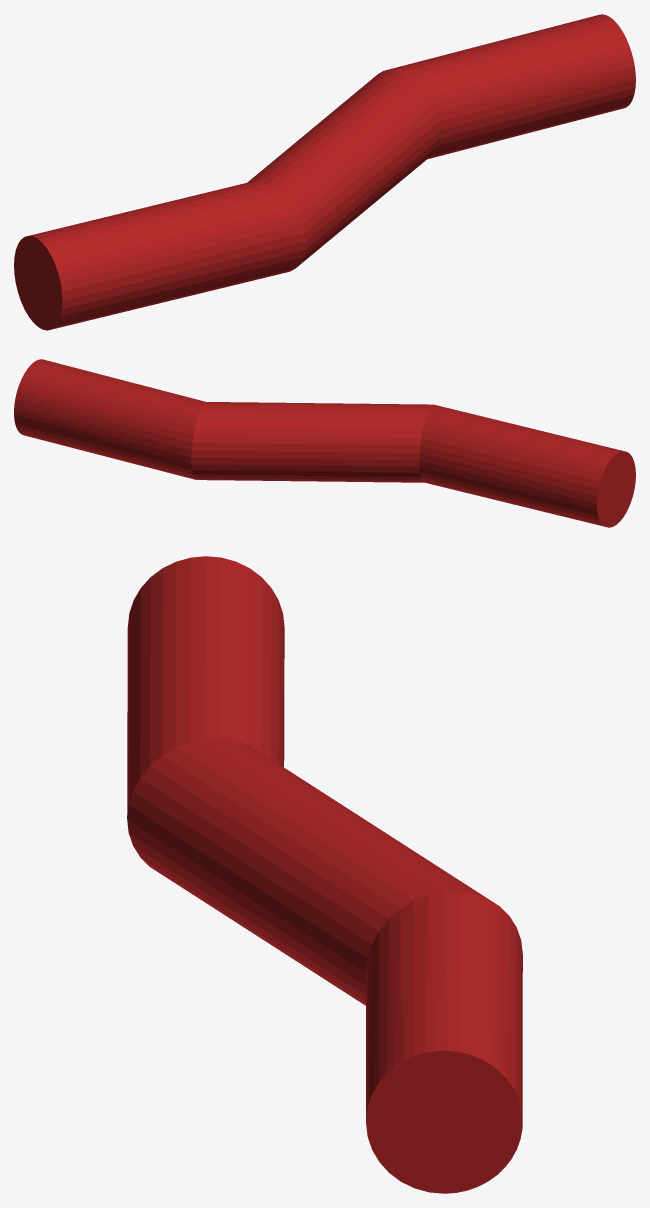
The model's file is original-32.obj.
3 renders of one model, top to bottom at view 1: azimuth 30°, elevation 25°; view 2: azimuth 150°, elevation 25°; view 3: azimuth 270°, elevation 25°, orthographic. The views are drawn at different scales.
Visible parts, largest first — view 1: mesh28/mesh28-geometry#mesh28-geometry; view 2: mesh28/mesh28-geometry#mesh28-geometry; view 3: mesh28/mesh28-geometry#mesh28-geometry.
Boxes of the visible parts, left/top/right/bottom form: mesh28/mesh28-geometry#mesh28-geometry: left=14, top=14, right=635, bottom=330; mesh28/mesh28-geometry#mesh28-geometry: left=14, top=359, right=635, bottom=527; mesh28/mesh28-geometry#mesh28-geometry: left=127, top=556, right=522, bottom=1193.
Size of the model in its own units: 0.1752 by 0.0252 by 0.0573.
